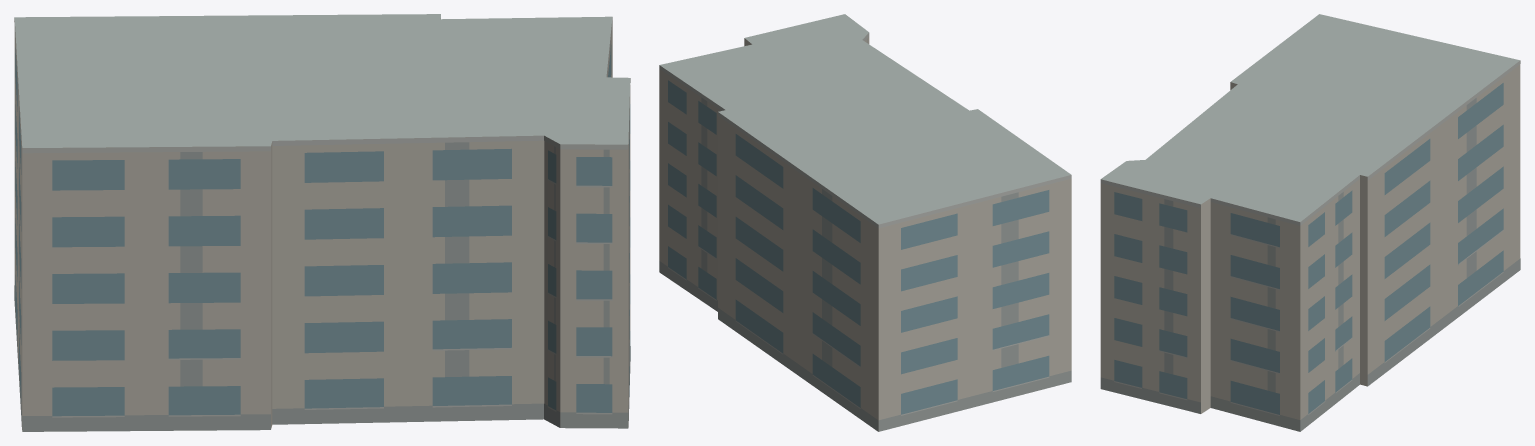
File: survey-upis-32524694.glb
3 views of the same model, side by side, from view 1: azimuth 30°, elevation 25°; view 2: azimuth 150°, elevation 25°; view 3: azimuth 270°, elevation 25° (orthographic). The views are drawn at different scales.
Parts seen in each view (by area): view 1: survey-upis-32524694.tmp; view 2: survey-upis-32524694.tmp; view 3: survey-upis-32524694.tmp.
Boxes of the visible parts, x1,y1,x2,y2 form: survey-upis-32524694.tmp: (14, 14, 630, 431); survey-upis-32524694.tmp: (659, 14, 1071, 431); survey-upis-32524694.tmp: (1100, 14, 1520, 431).
Bounding box in the file's own units: 28.75 × 13.5 × 24.5.
